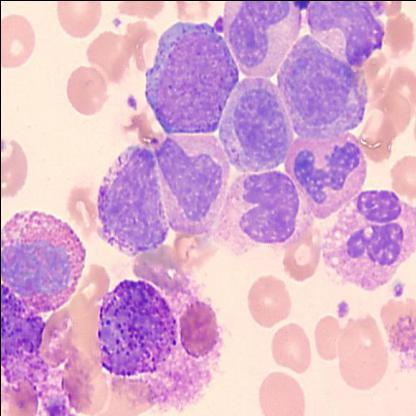Promyelocyte: (142, 16, 235, 136), (92, 144, 168, 250)
